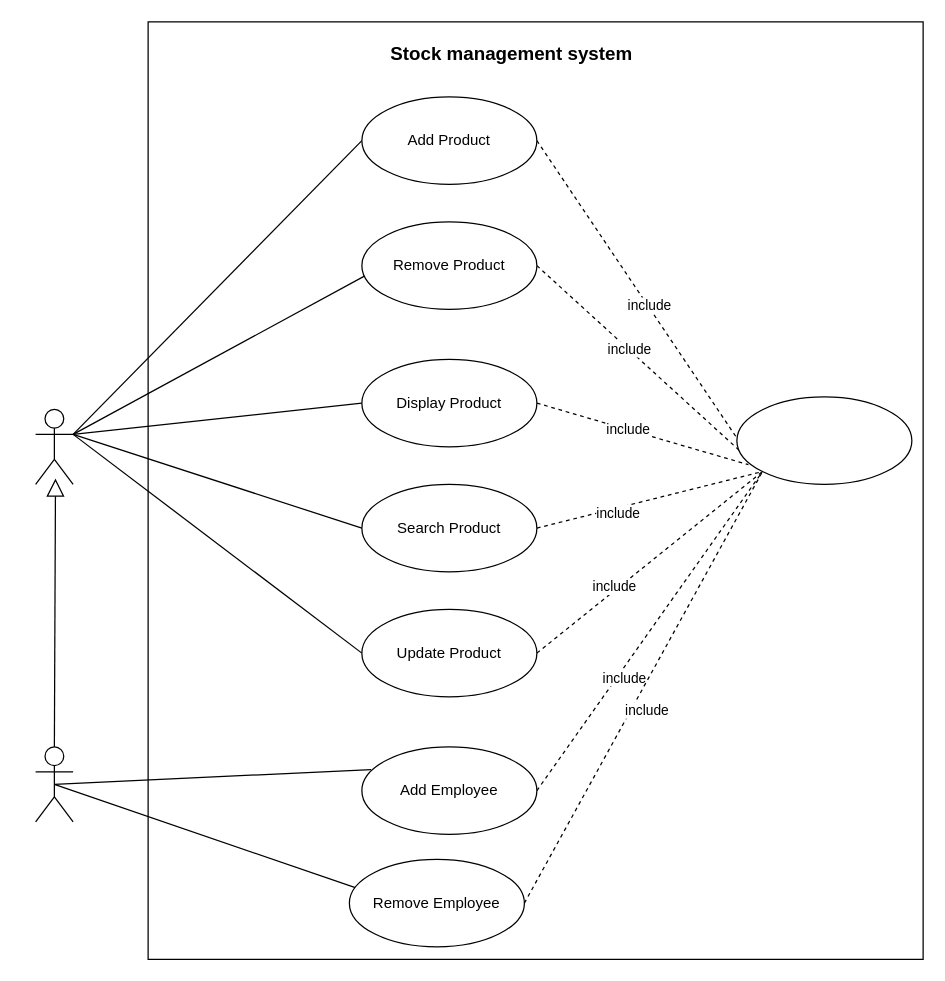
This 945x981 diagram has some shape labels left out. Here are the shapes that lost their labels. From the top down, the box of each, then its label:
(34, 408, 73, 484): Employee
(736, 396, 912, 484): Login
(34, 746, 73, 822): Admin
